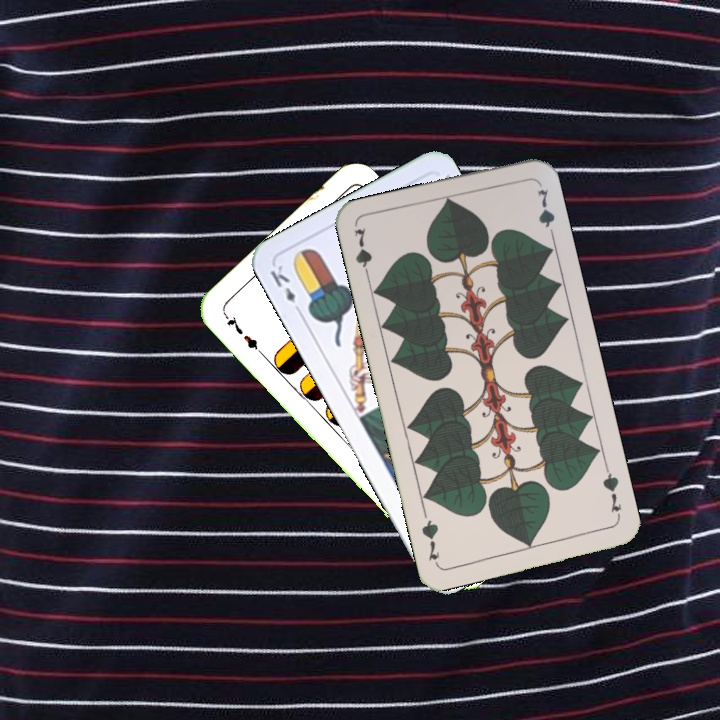E7: (220, 309, 265, 357)
EK: (266, 261, 305, 317)
G7: (350, 224, 375, 283), (599, 463, 624, 522)
